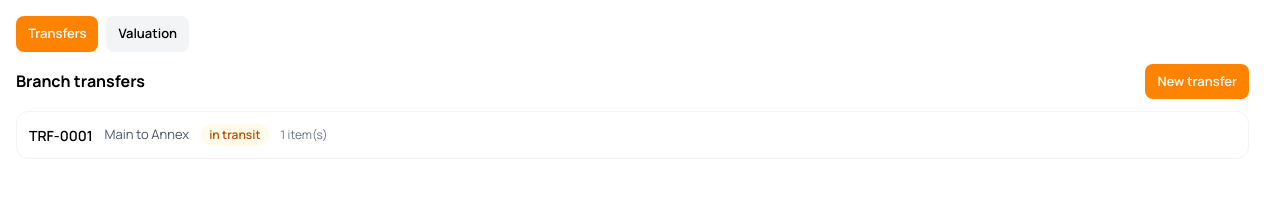
it: partial receive sends the typed quantity
Click the text "TRF-0001" at (61,135), box [29,124,92,146]
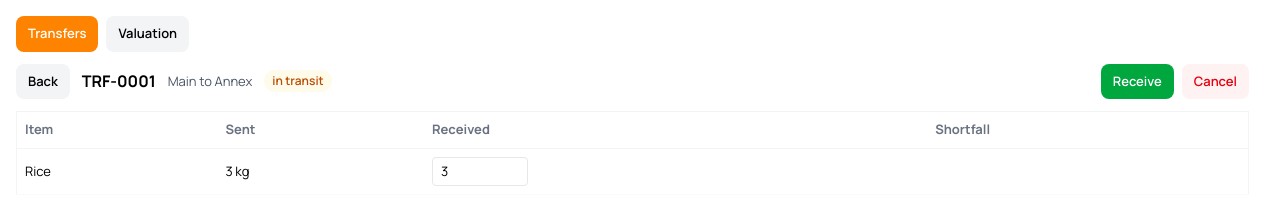
Replace the text in the number field named "Received for Rice" with "2.5" at (480,171), box [432,156,528,186]
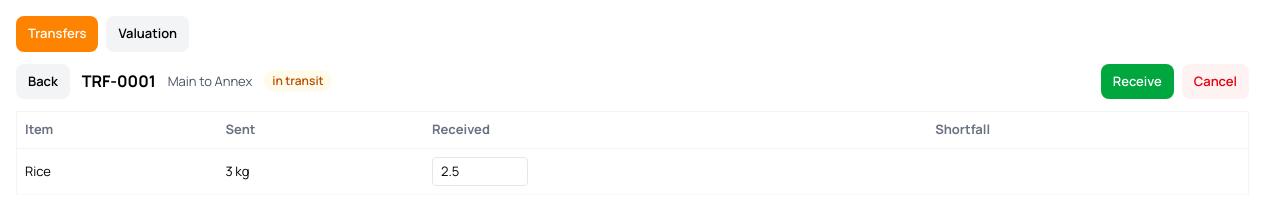
Click the button "Receive" at (1137,81), box [1101,64,1174,99]
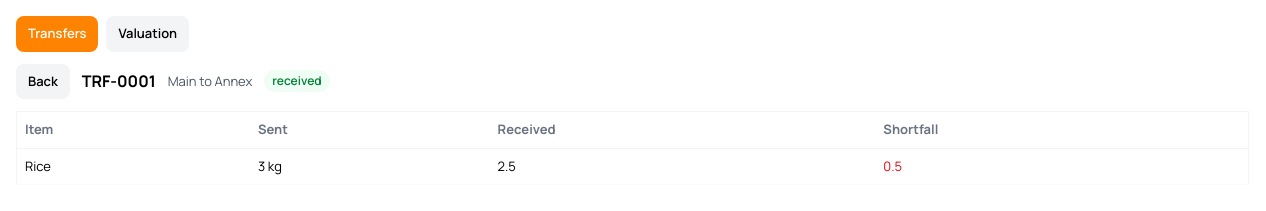
Result: the cell with test id "shortfall-l1" reads "0.5" at [883,156,902,174]
